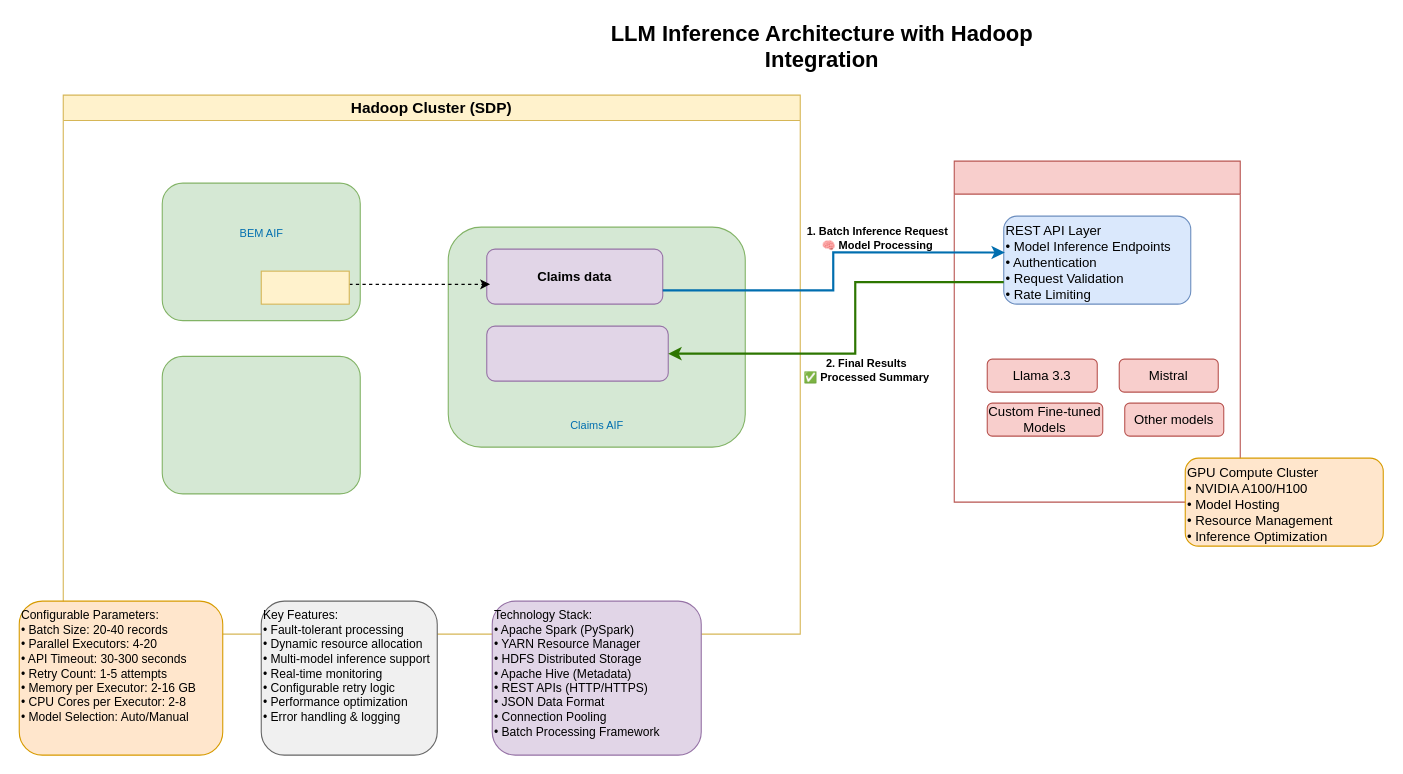
The diagram is 1403 pixels wide and 774 high, and some of its shapes have lost their labels. Each missing label, with the box of its shape:
Claims Summary Results 💾 Processed Data: (486, 325, 668, 381)
LLM Models (GPU Servers): (953, 160, 1240, 502)
Pyspark jobs: (260, 270, 349, 304)
SDP AIFs: (161, 355, 360, 494)
